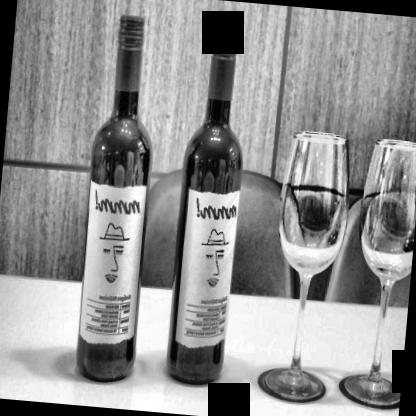umm: (78, 181, 146, 349), (177, 189, 238, 350)
